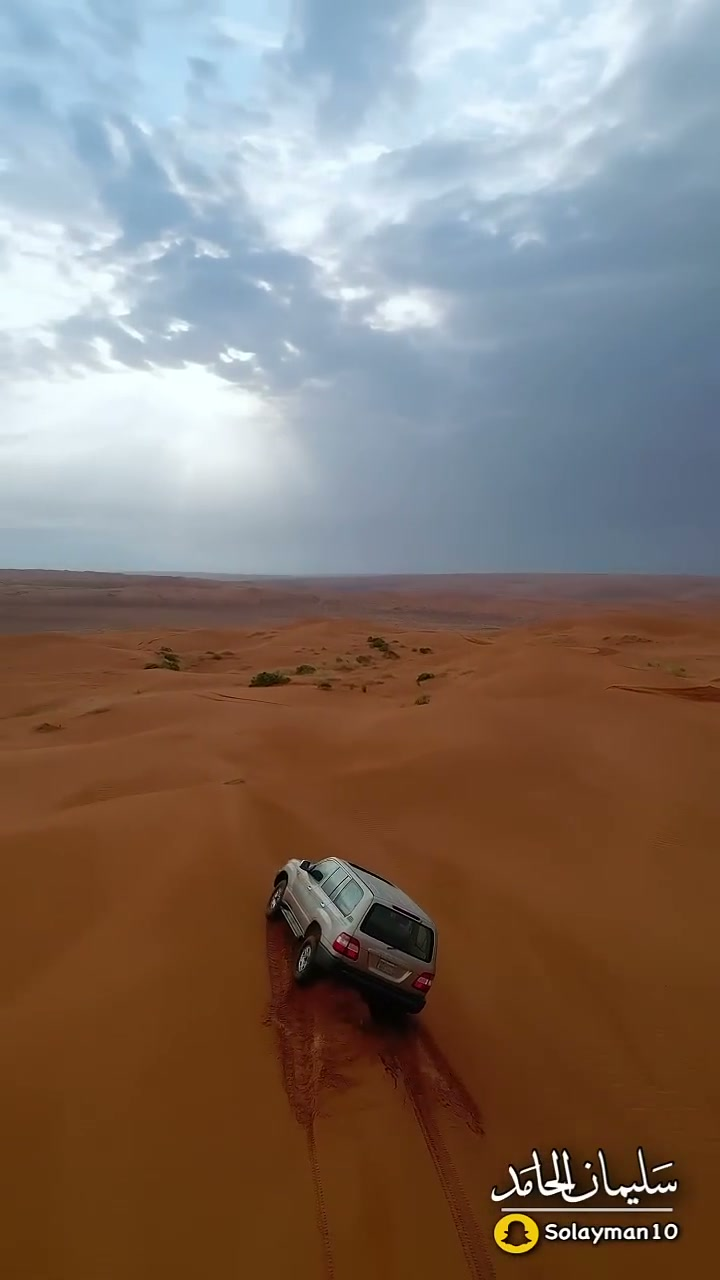vehicle_track: (266, 922, 494, 1279), (380, 1029, 494, 1279), (266, 922, 335, 1279)
